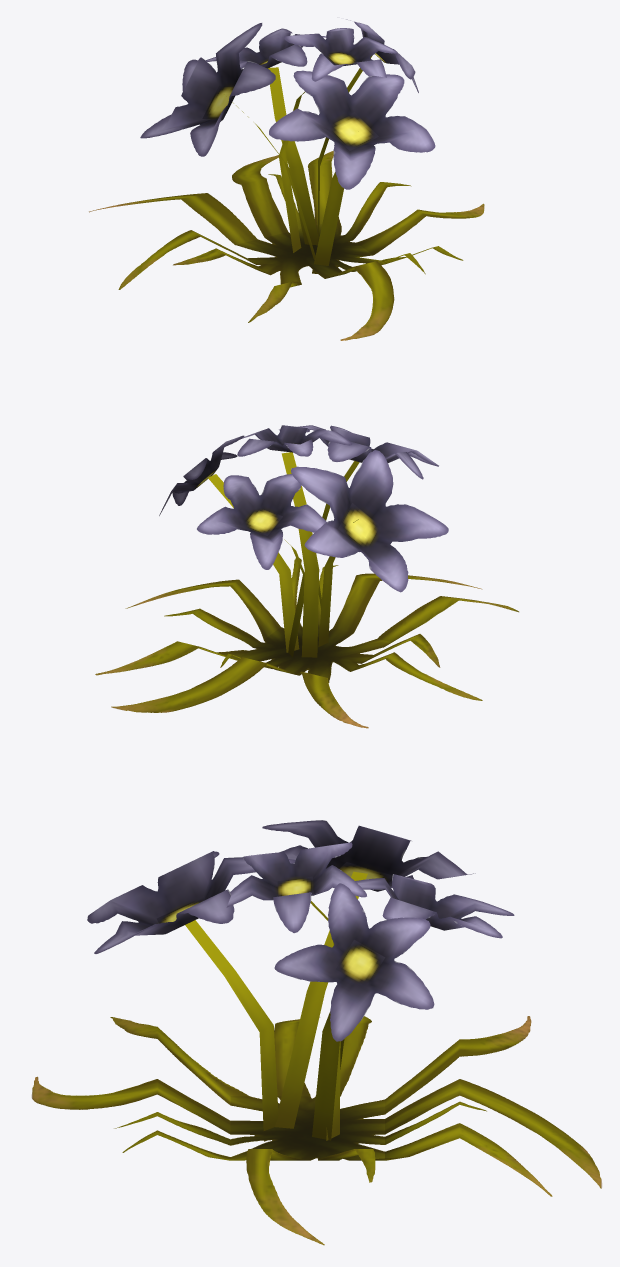
File: flowerI.fbx
3 renders of one model, top to bottom at view 1: azimuth 30°, elevation 25°; view 2: azimuth 150°, elevation 25°; view 3: azimuth 270°, elevation 25°, orthographic. The views are drawn at different scales.
Parts seen in each view (by area): view 1: flowerI; view 2: flowerI; view 3: flowerI.
Boxes of the visible parts, x1,y1,x2,y2 form: flowerI: (89, 19, 484, 340); flowerI: (95, 425, 518, 728); flowerI: (31, 820, 602, 1245).
Bounding box in the file's own units: 114 × 72.6 × 116.
Materials: 1 (1 with a texture image).
